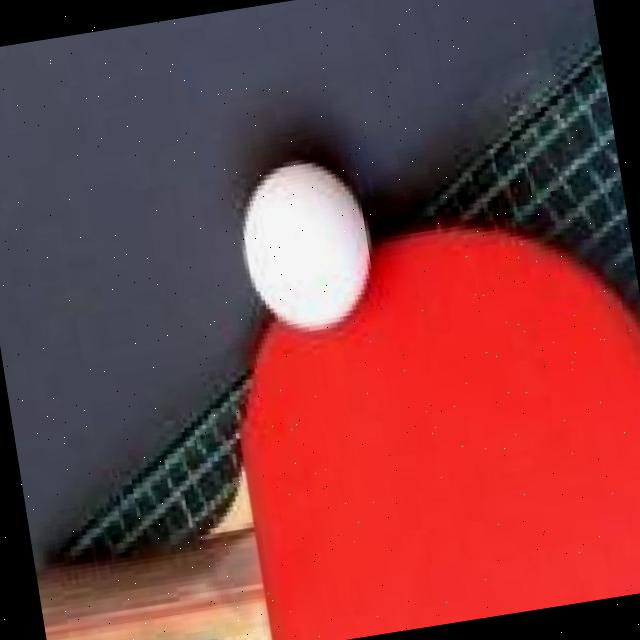ping-pong-ball: (230, 149, 384, 337)
